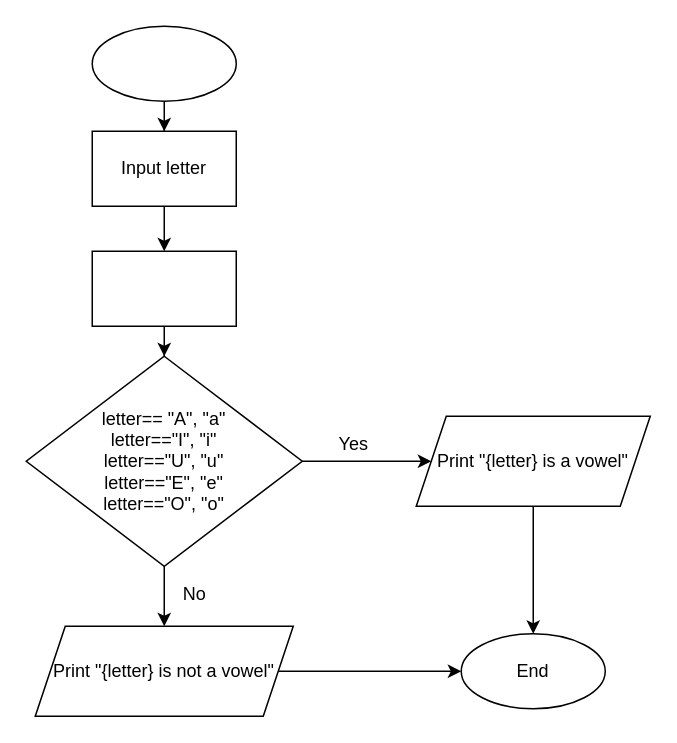
Some shapes in this 677 by 743 pixel diagram are drawn without their labels. The centre of each missing label's shape, as x and y in pixels:
letter: (163,288)
Start: (163,63)
